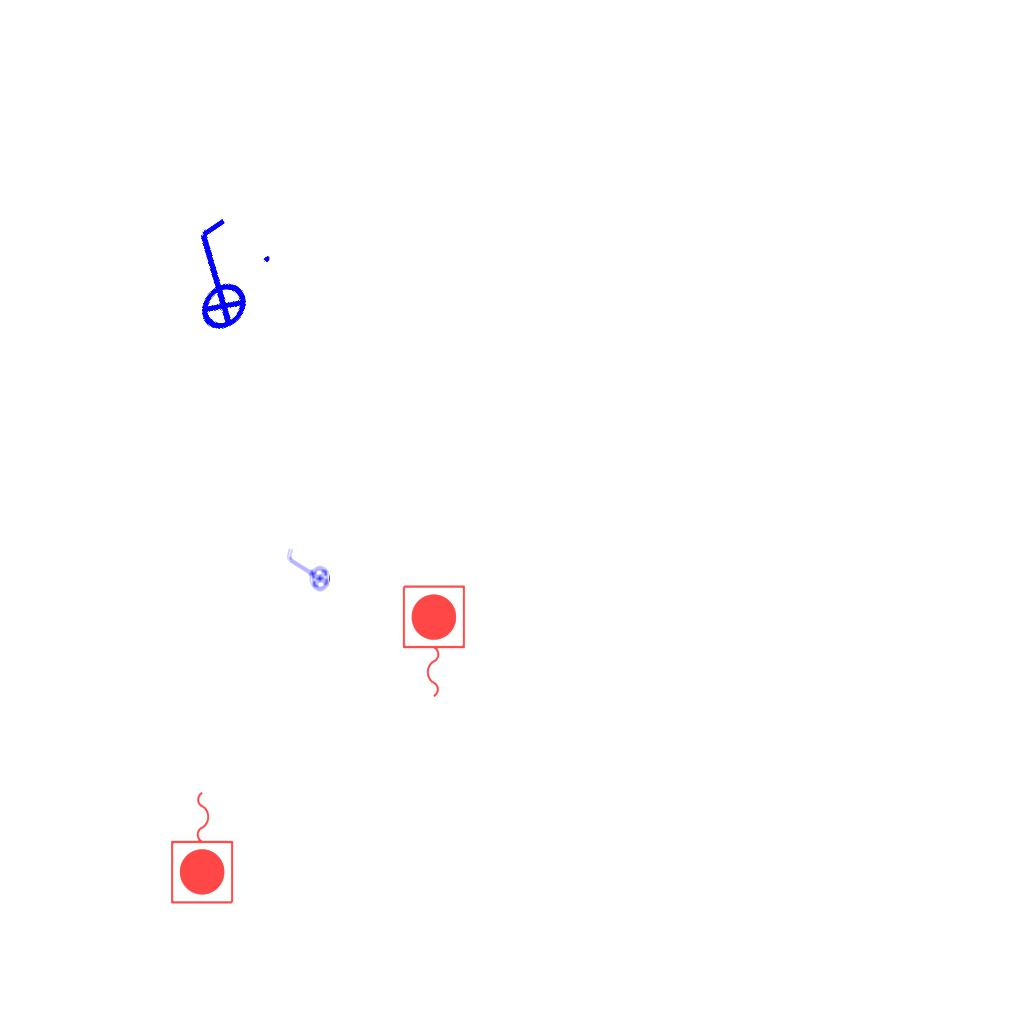Ausschalter_beleuchtet: (142, 202, 290, 350), (283, 542, 331, 598)
Zugtaster: (397, 581, 469, 703), (167, 786, 239, 908)
